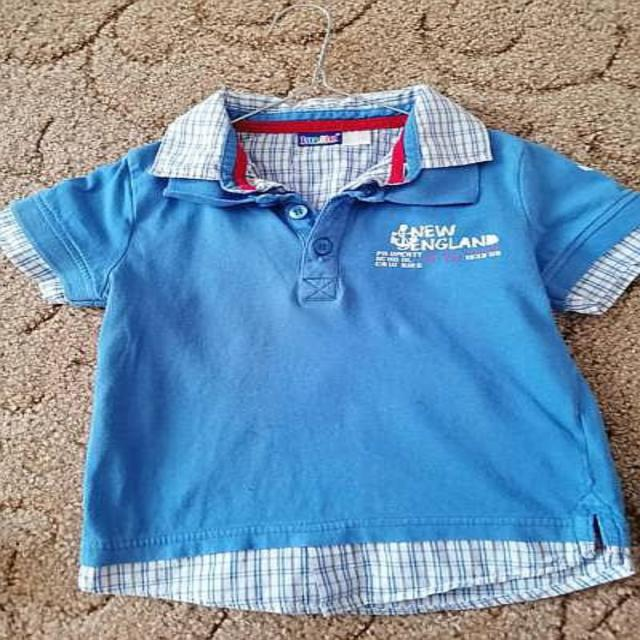T_SHIRT: (0, 75, 640, 622)
